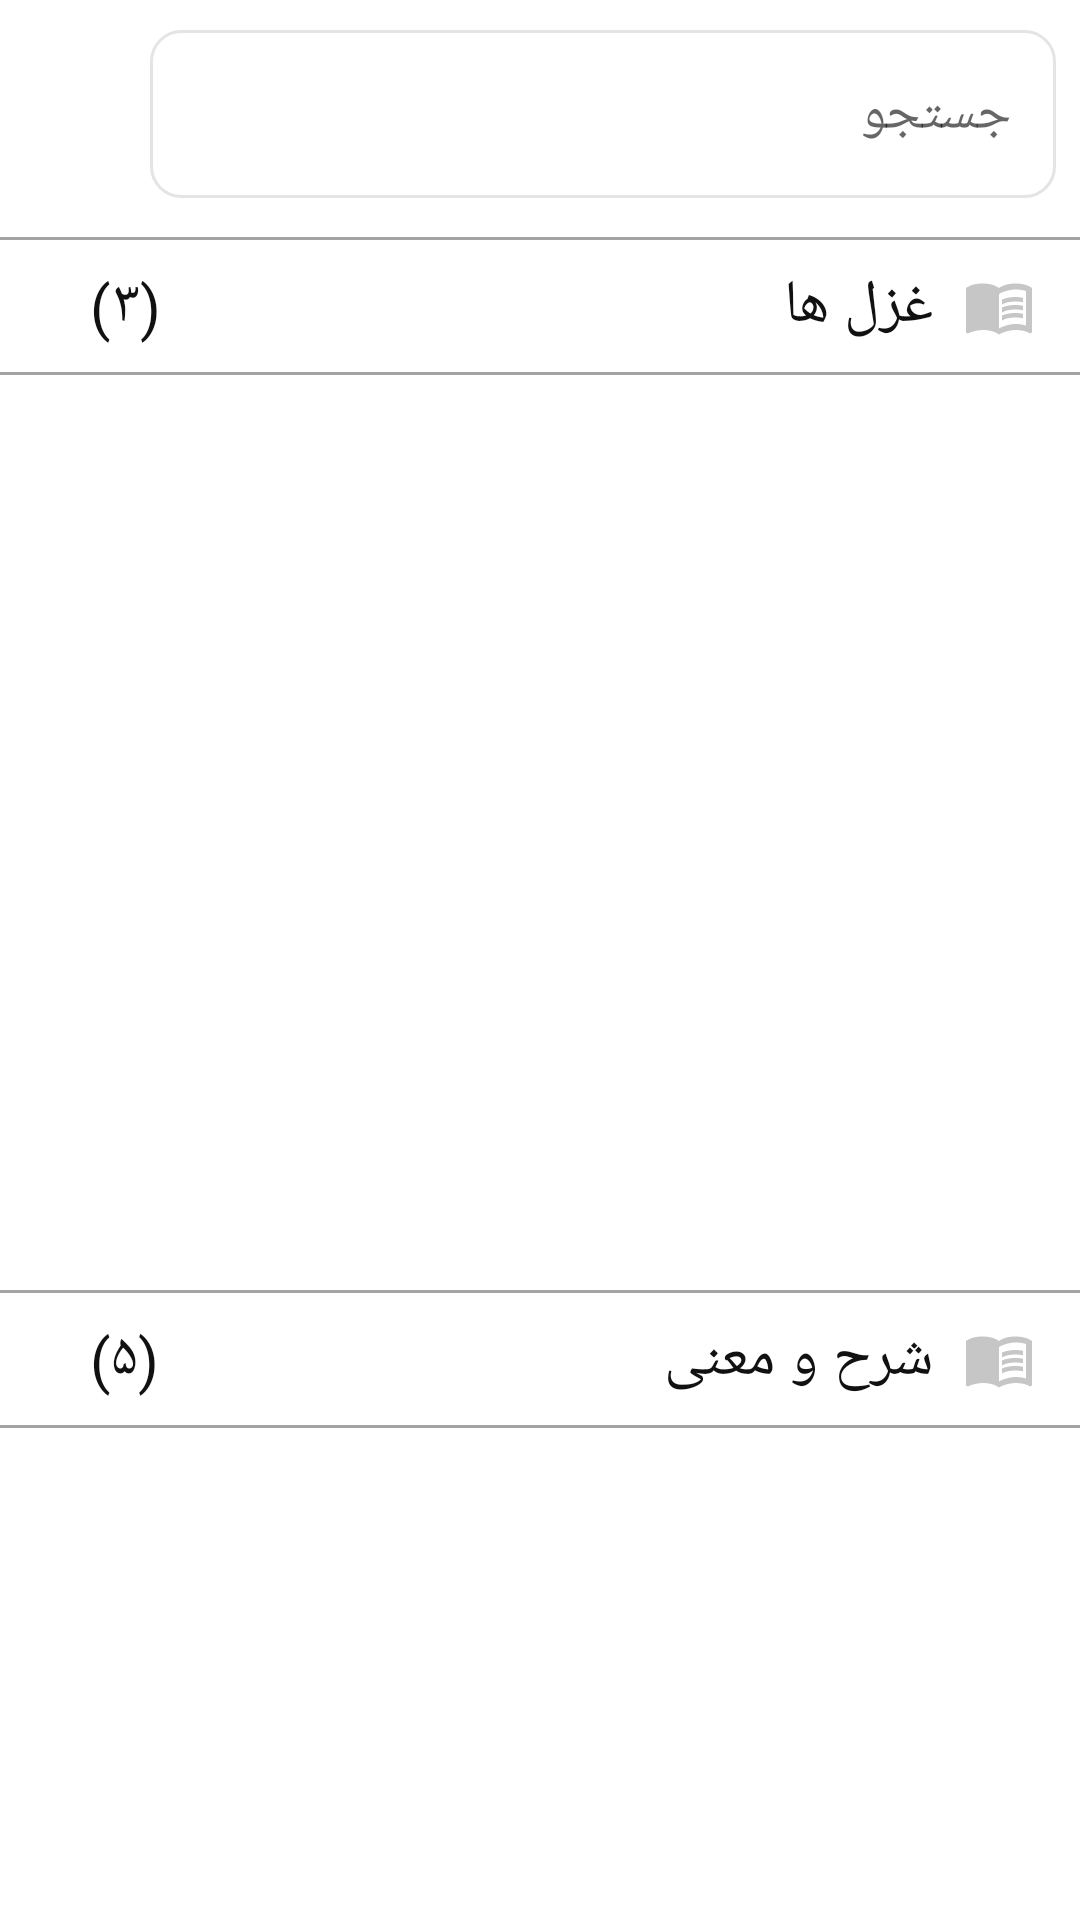

Icons on this 1080w x 1920h Android screen, each with the point to tap as [x,y]:
book: [999,308], [999,1361]
